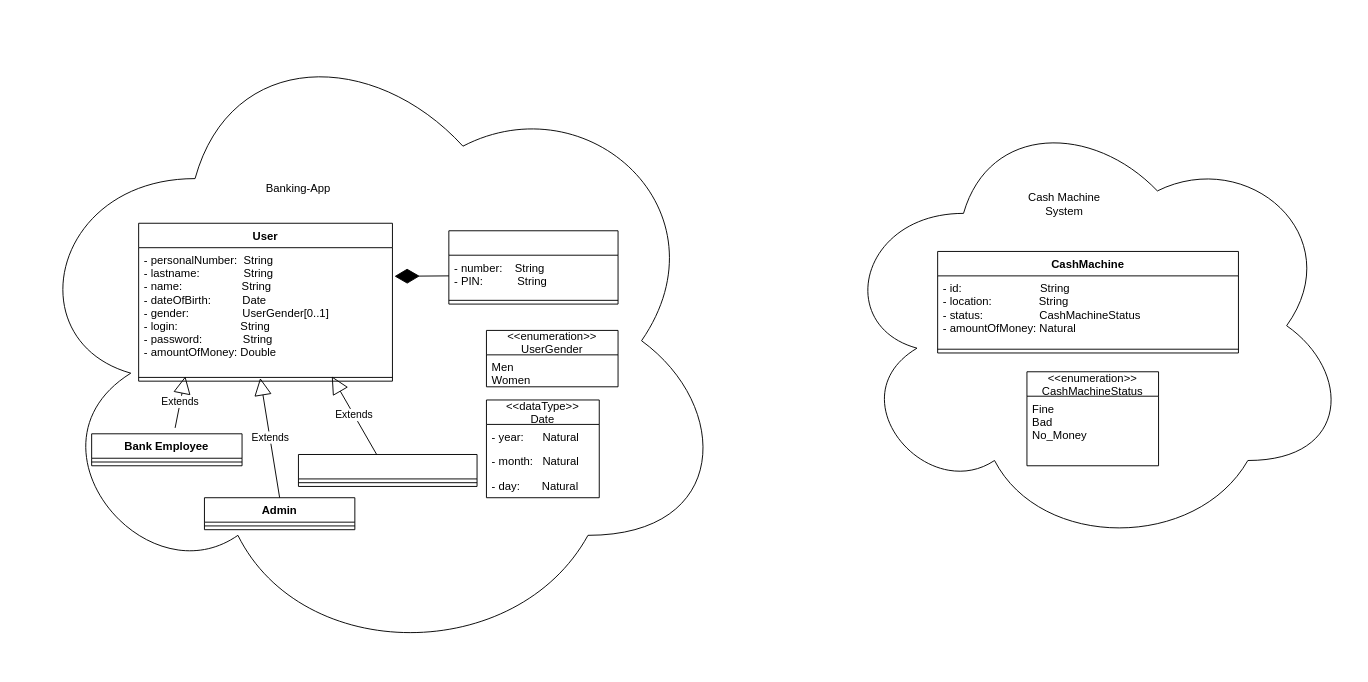
The diagram is 1368 pixels wide and 682 high, and some of its shapes have lost their labels. The box of each missing label's shape, as (x1, y1, x2, y2) in pixels:
Card: (448, 230, 618, 304)
Client: (298, 454, 477, 486)
